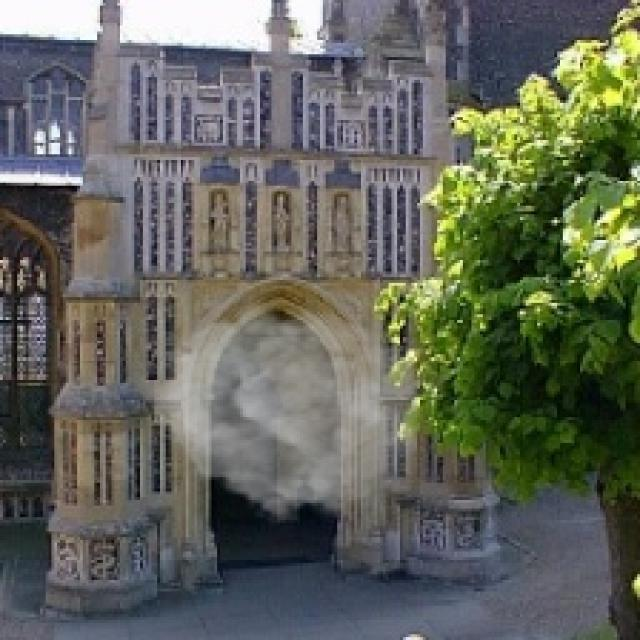Smoke: (154, 294, 417, 526)
